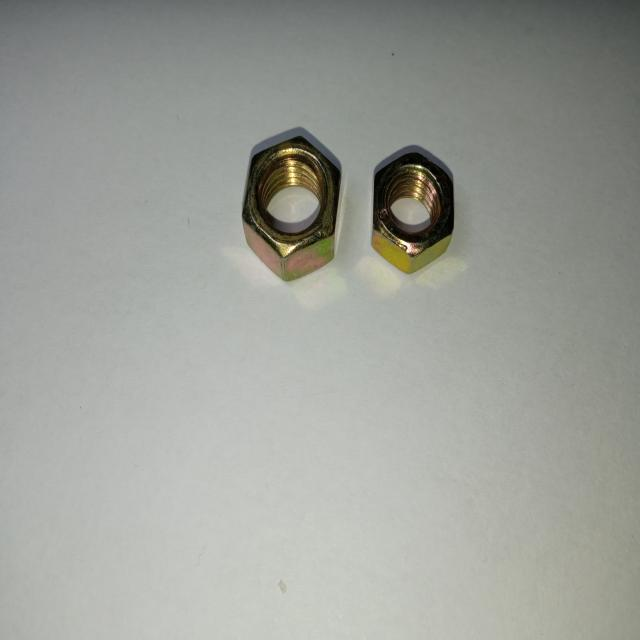m10: (240, 136, 346, 268)
m8: (241, 136, 341, 273), (373, 150, 457, 271)
